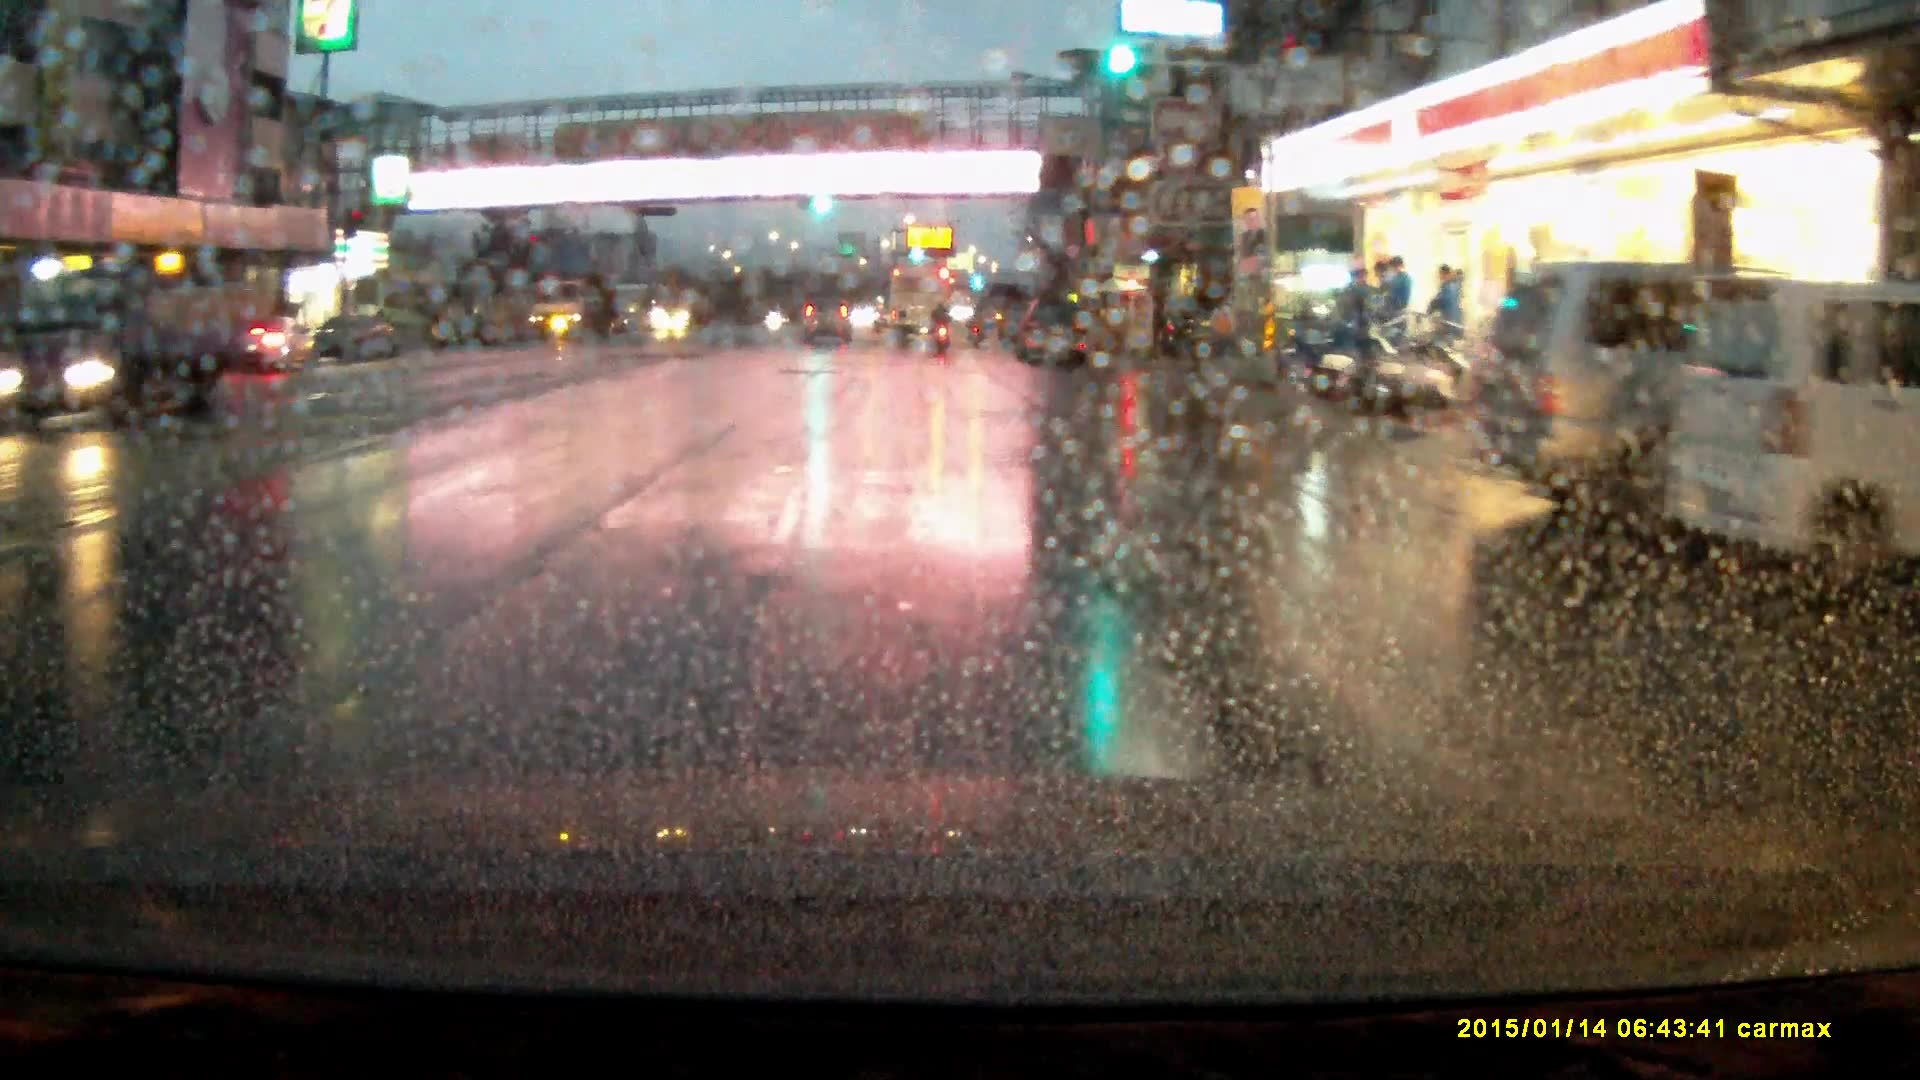rider: (931, 298, 957, 352)
vehicle: (1474, 261, 1847, 538), (28, 266, 254, 424), (530, 280, 614, 344), (1018, 292, 1088, 367), (891, 264, 955, 345), (1156, 298, 1239, 357), (305, 312, 402, 363), (660, 281, 717, 330), (800, 296, 855, 346)
